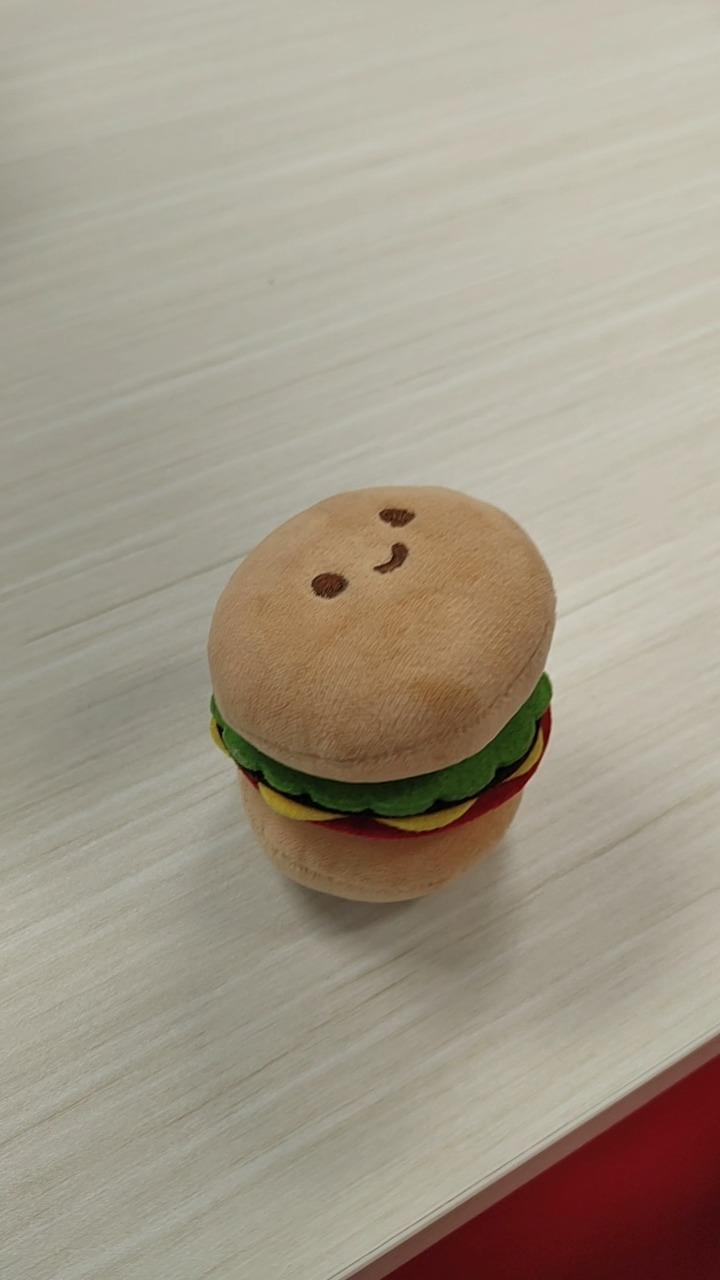hamburger: (205, 483, 557, 905)
